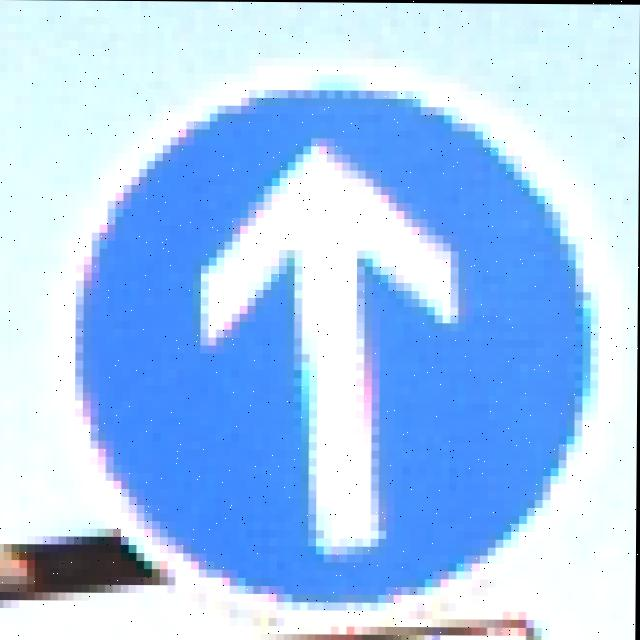compulsory_ahead: (83, 91, 594, 586)
